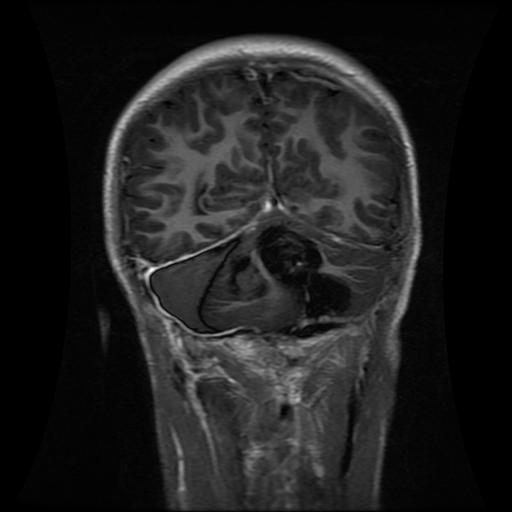Gliomia_tumour: (257, 223, 349, 319)
